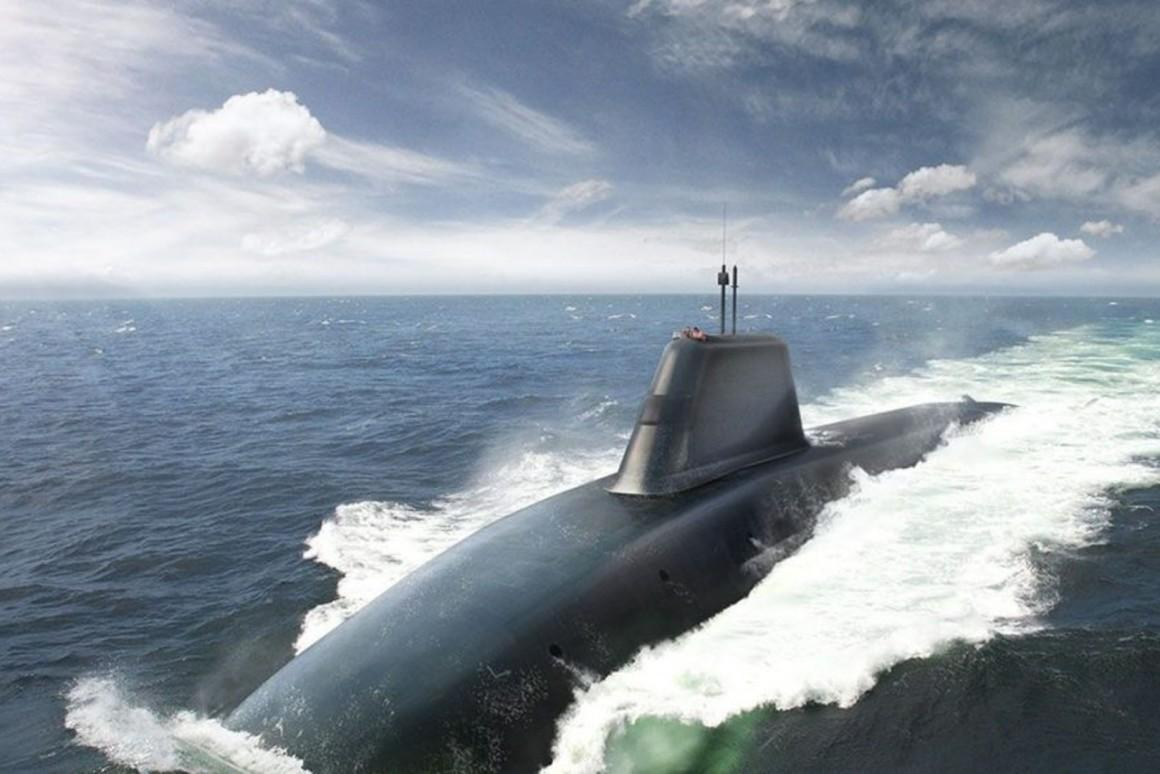Submarine: (84, 130, 1132, 774)
